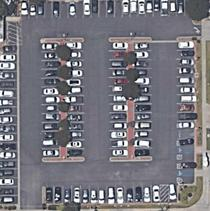parkingspot: (0, 44, 20, 206), (19, 0, 186, 19), (64, 42, 87, 159), (133, 40, 155, 158), (44, 184, 161, 206), (108, 40, 129, 159), (40, 42, 61, 159), (175, 40, 197, 131), (176, 152, 196, 172), (176, 138, 196, 149), (176, 176, 196, 186), (168, 184, 178, 204)
